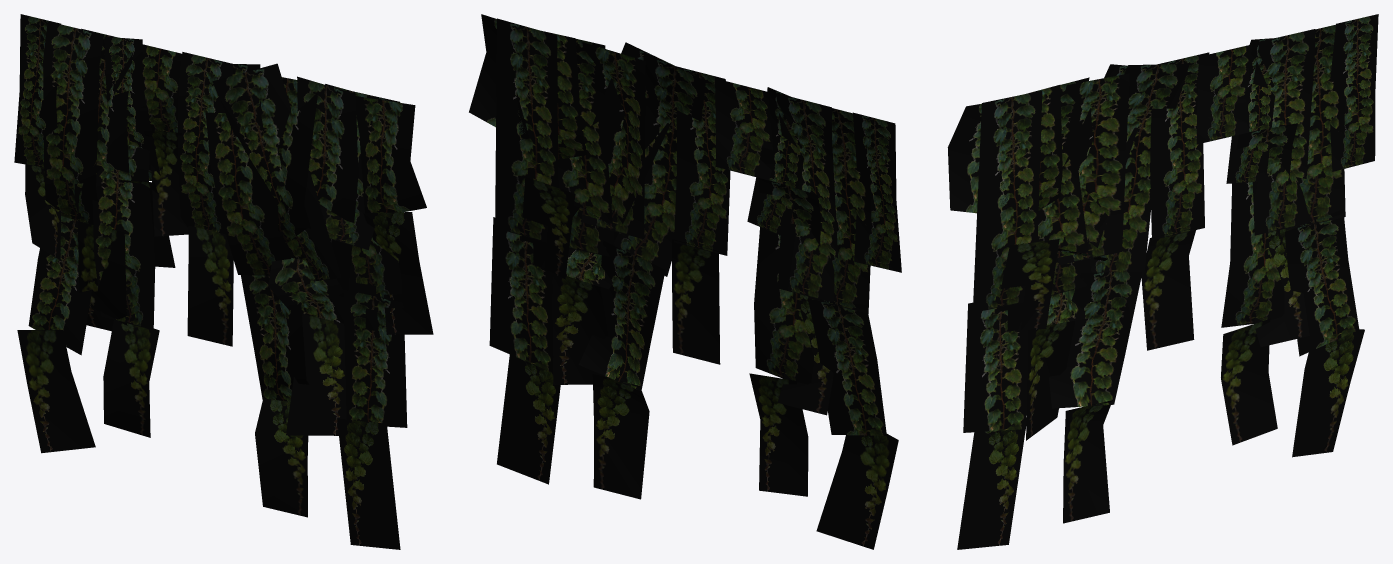
Rendered from Wall_Ivy_split.fbx.
The picture shows the model from 3 angles, left to right: view 1: azimuth 30°, elevation 25°; view 2: azimuth 210°, elevation 25°; view 3: azimuth 270°, elevation 25°; orthographic projection. The views are drawn at different scales.
Visible parts, largest first — view 1: 06, 07, 03, 02, 05, 01, 04; view 2: 06, 07, 03, 02, 05, 01, 04; view 3: 06, 07, 03, 02, 05, 01, 04.
Part boxes in pixels (box(x1,y1,x2,y2)): 06: box(205, 63, 385, 517); 07: box(337, 92, 433, 549); 03: box(74, 28, 175, 437); 02: box(17, 21, 103, 453); 05: box(178, 52, 233, 346); 01: box(14, 14, 61, 260); 04: box(136, 44, 188, 236); 06: box(516, 30, 705, 499); 07: box(469, 14, 575, 484); 03: box(747, 87, 838, 496); 02: box(808, 108, 898, 549); 05: box(671, 65, 730, 364); 01: box(853, 112, 901, 272); 04: box(715, 78, 772, 180); 06: box(999, 64, 1189, 523); 07: box(947, 90, 1059, 549); 03: box(1221, 29, 1315, 445); 02: box(1284, 24, 1364, 457); 05: box(1141, 52, 1209, 350); 01: box(1330, 14, 1378, 171); 04: box(1196, 44, 1251, 144).
Size of the model in its own units: 83.65 by 172 by 149.
Materials: 1 (1 with a texture image).
